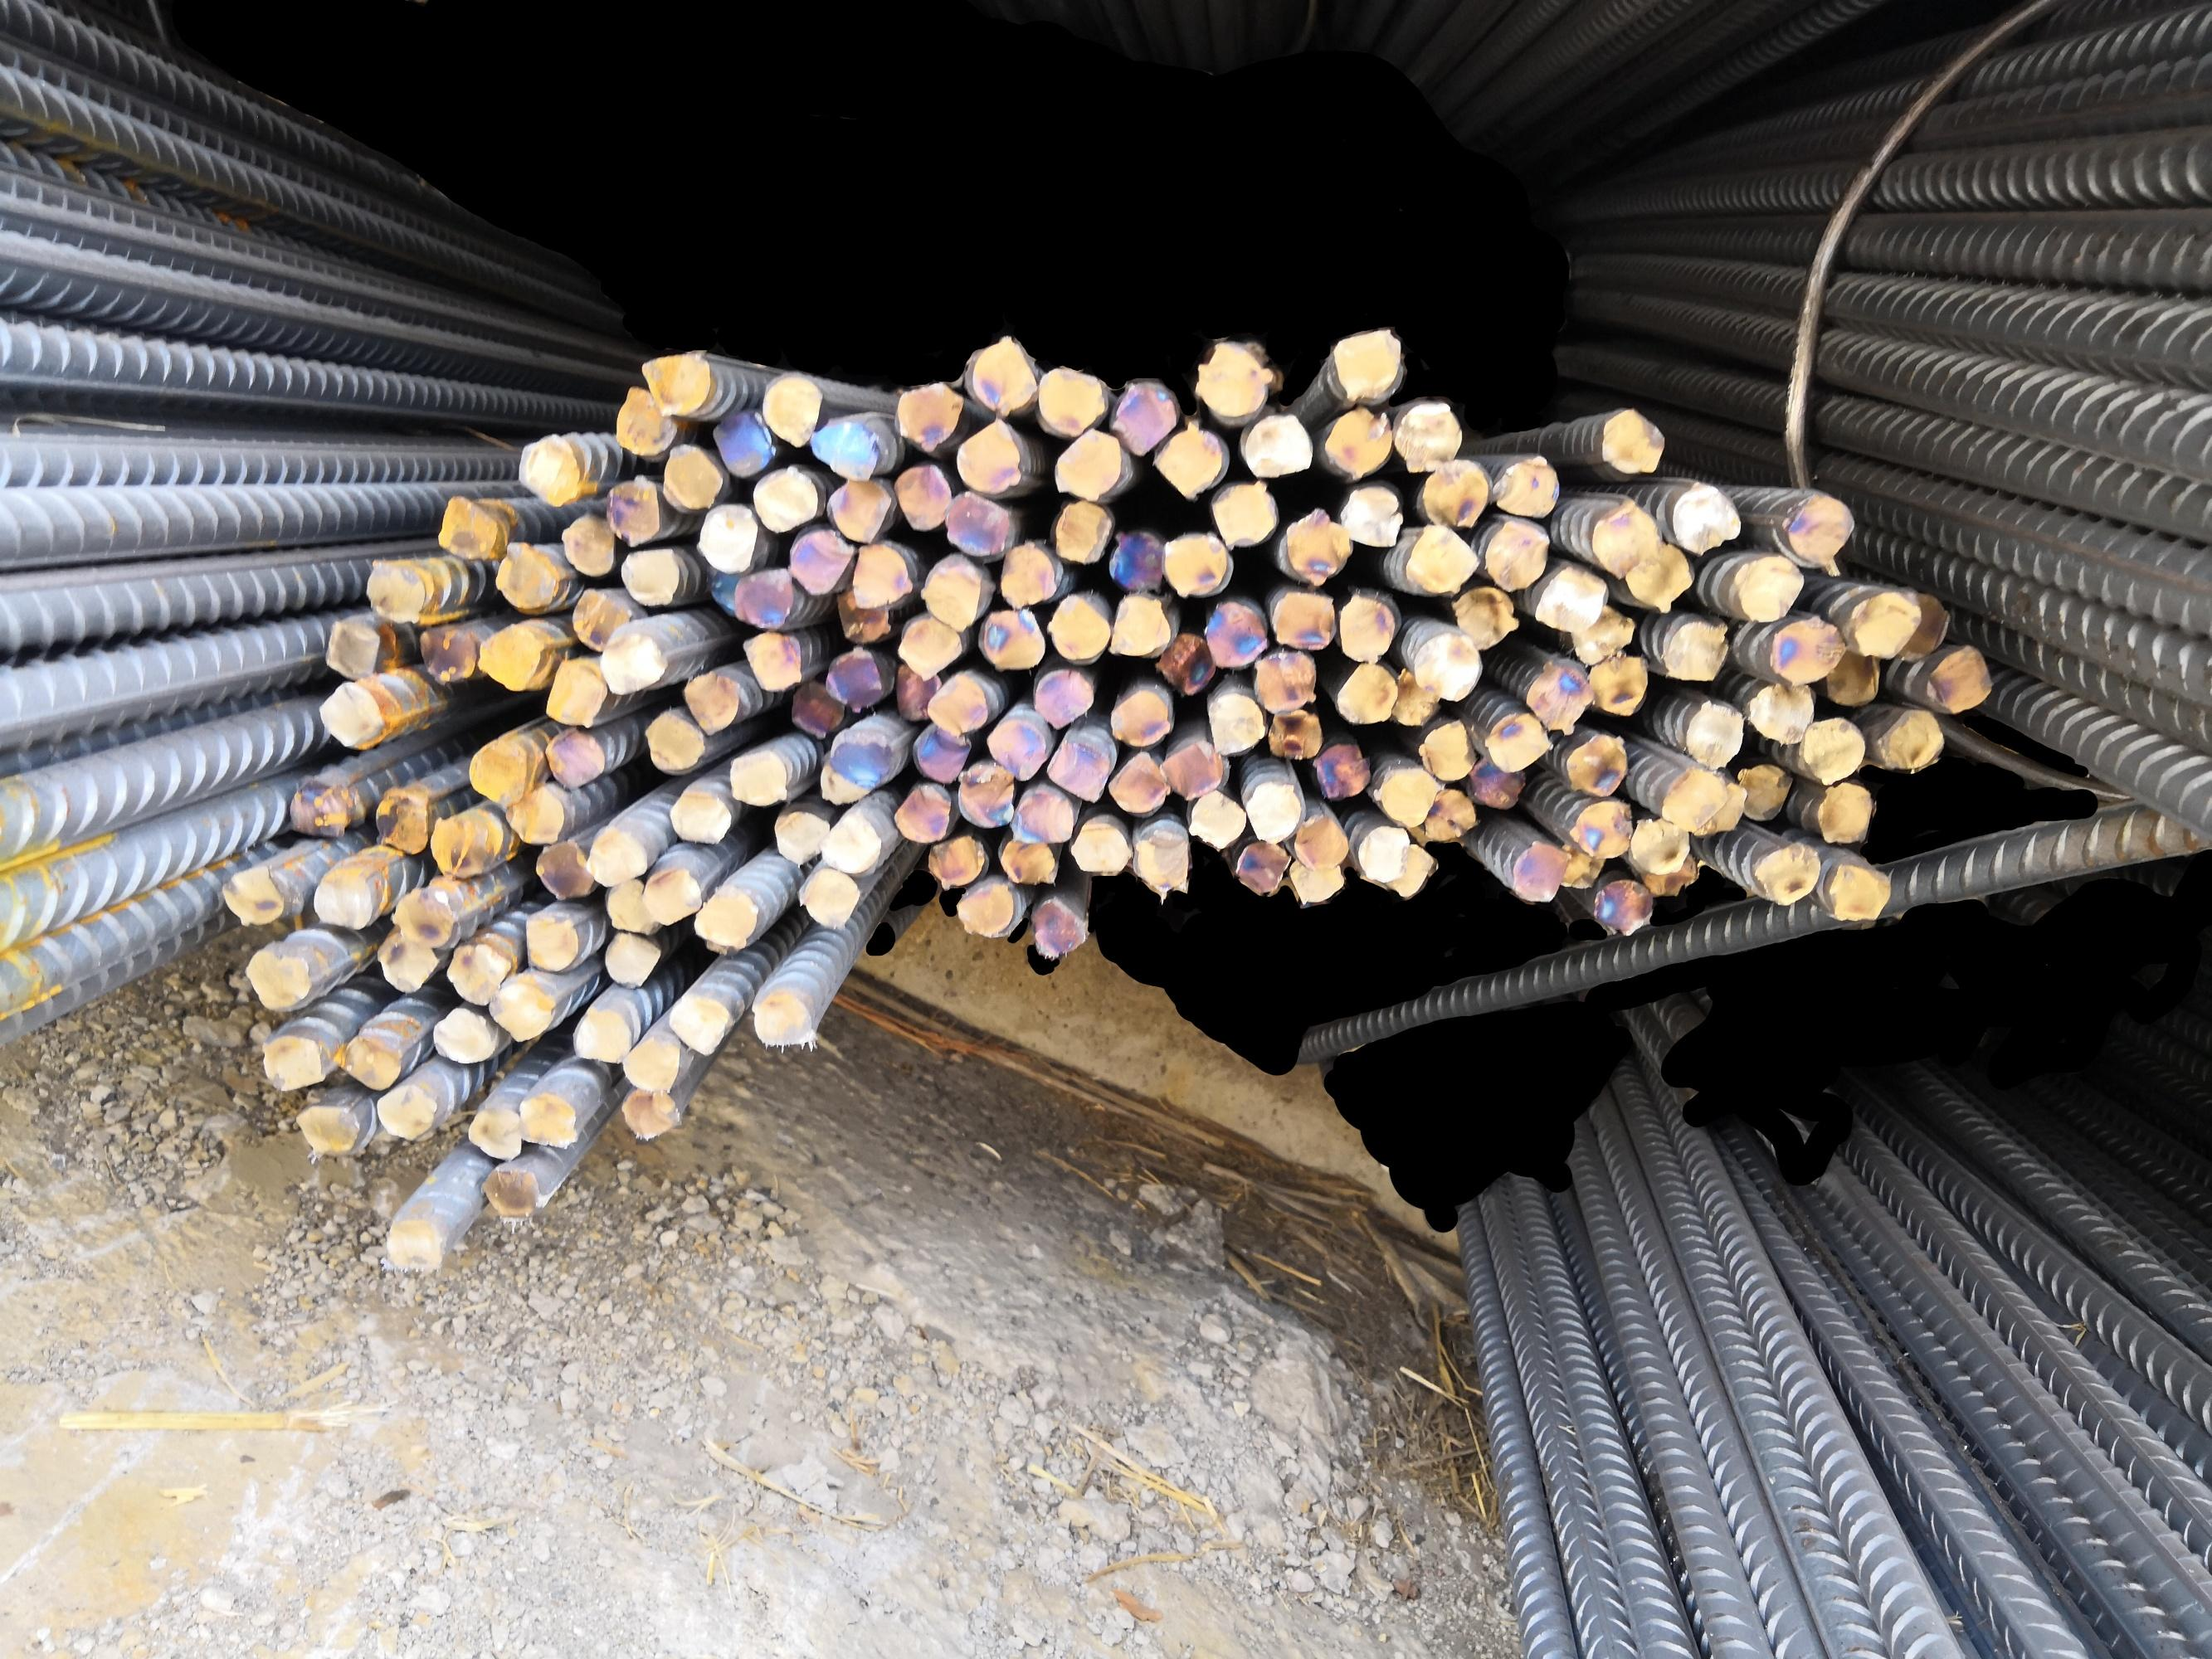bar: (1189, 336, 1276, 425), (1272, 502, 1354, 589), (1398, 514, 1483, 596), (1028, 357, 1110, 441), (1325, 321, 1408, 403), (1384, 394, 1466, 477), (1143, 422, 1229, 502), (1320, 397, 1398, 483), (1584, 495, 1663, 580), (1522, 652, 1595, 742), (1842, 579, 1923, 660), (1527, 558, 1611, 636), (1046, 423, 1126, 502), (947, 415, 1023, 497), (1415, 455, 1492, 537), (1408, 622, 1483, 706), (1769, 608, 1848, 687), (936, 484, 1016, 561), (1204, 472, 1281, 552), (1668, 476, 1745, 556), (1774, 488, 1855, 565), (1478, 514, 1553, 596), (1107, 375, 1180, 458), (969, 329, 1041, 415), (1621, 537, 1696, 617), (1126, 814, 1192, 904), (1330, 584, 1403, 666), (634, 349, 718, 420), (1726, 552, 1808, 624), (1194, 596, 1269, 673), (488, 535, 561, 613), (892, 376, 966, 455), (1236, 408, 1314, 481), (1593, 401, 1668, 476), (1037, 730, 1110, 807), (1156, 525, 1232, 598), (1447, 580, 1523, 653), (885, 455, 957, 533), (589, 624, 669, 694), (702, 404, 776, 479), (783, 523, 858, 596), (1483, 701, 1558, 774), (824, 469, 896, 545), (1264, 582, 1340, 653), (1328, 650, 1400, 727), (1489, 450, 1567, 519), (514, 430, 582, 511), (758, 369, 826, 450), (1370, 756, 1443, 829), (1745, 674, 1818, 748), (750, 462, 821, 537), (1098, 587, 1173, 659), (805, 413, 882, 483), (1332, 481, 1408, 551), (1659, 756, 1729, 833), (1799, 711, 1869, 788), (462, 737, 540, 805), (692, 500, 763, 573), (894, 610, 966, 683), (1246, 643, 1320, 714), (1579, 645, 1652, 716), (1659, 612, 1731, 685), (1872, 702, 1945, 774), (734, 624, 809, 694), (239, 945, 316, 1012), (917, 554, 985, 631), (612, 380, 678, 458), (1044, 587, 1110, 666), (474, 622, 546, 694), (994, 540, 1065, 612), (976, 603, 1048, 674), (373, 920, 443, 993), (312, 678, 385, 748), (845, 537, 915, 610), (1893, 580, 1954, 664), (1923, 641, 1992, 714), (439, 941, 514, 1009), (1562, 725, 1630, 800), (1156, 735, 1232, 802), (600, 469, 662, 549), (383, 882, 455, 951), (980, 713, 1049, 784), (1750, 835, 1820, 906), (424, 807, 492, 880), (797, 861, 865, 934), (540, 655, 608, 728), (1822, 854, 1895, 922), (1682, 694, 1745, 772), (565, 582, 634, 652), (948, 760, 1018, 829), (1567, 601, 1637, 671), (580, 821, 652, 889), (431, 491, 502, 559), (540, 720, 607, 793), (1002, 782, 1075, 849), (1565, 795, 1639, 861), (819, 647, 894, 711), (1103, 748, 1171, 817), (1236, 774, 1304, 843), (511, 1089, 582, 1155), (748, 988, 819, 1054), (657, 439, 723, 511), (1103, 681, 1175, 748), (483, 981, 558, 1044), (638, 706, 706, 774), (666, 992, 732, 1061), (1028, 666, 1098, 732), (1199, 692, 1269, 758), (1626, 812, 1693, 882), (256, 1030, 328, 1094), (1503, 835, 1567, 906), (378, 1216, 451, 1279), (680, 666, 743, 739), (1102, 523, 1164, 596), (370, 782, 429, 859), (516, 910, 582, 978), (600, 924, 666, 992), (634, 863, 702, 929), (692, 884, 760, 950), (554, 507, 621, 575), (926, 667, 992, 735), (338, 1025, 408, 1089), (567, 999, 631, 1068), (723, 746, 793, 810), (1025, 894, 1089, 964), (1182, 784, 1246, 854), (1733, 755, 1797, 824), (216, 866, 288, 929), (1288, 805, 1351, 877), (317, 615, 385, 680), (1049, 497, 1114, 565), (830, 580, 898, 645), (1414, 720, 1482, 784), (1813, 779, 1877, 847), (284, 774, 347, 843), (359, 554, 422, 624), (614, 544, 683, 606), (727, 565, 797, 627), (1152, 627, 1215, 697), (1309, 735, 1372, 805), (889, 779, 953, 845), (431, 1004, 499, 1066), (502, 786, 572, 847), (1407, 788, 1478, 847), (530, 840, 596, 903), (819, 809, 882, 875), (309, 870, 378, 929), (1469, 744, 1529, 814), (598, 873, 661, 938), (910, 721, 974, 784), (1382, 664, 1445, 728), (478, 1162, 544, 1223), (621, 1032, 687, 1093), (413, 622, 479, 683), (1069, 816, 1135, 877), (1227, 836, 1293, 897), (1593, 871, 1654, 938), (1825, 643, 1886, 709), (617, 1084, 685, 1143), (828, 734, 896, 793), (371, 1082, 441, 1140), (1691, 777, 1754, 840), (952, 880, 1016, 941), (995, 831, 1062, 890), (291, 1101, 363, 1154), (669, 788, 732, 847), (1351, 821, 1410, 884), (1281, 849, 1346, 906), (1262, 704, 1321, 765), (465, 1103, 523, 1166), (1375, 842, 1438, 899), (922, 833, 988, 887), (885, 659, 940, 725), (812, 753, 873, 809), (1551, 831, 1607, 892), (784, 678, 842, 735), (1640, 849, 1703, 901), (772, 809, 830, 864), (699, 556, 751, 615)
